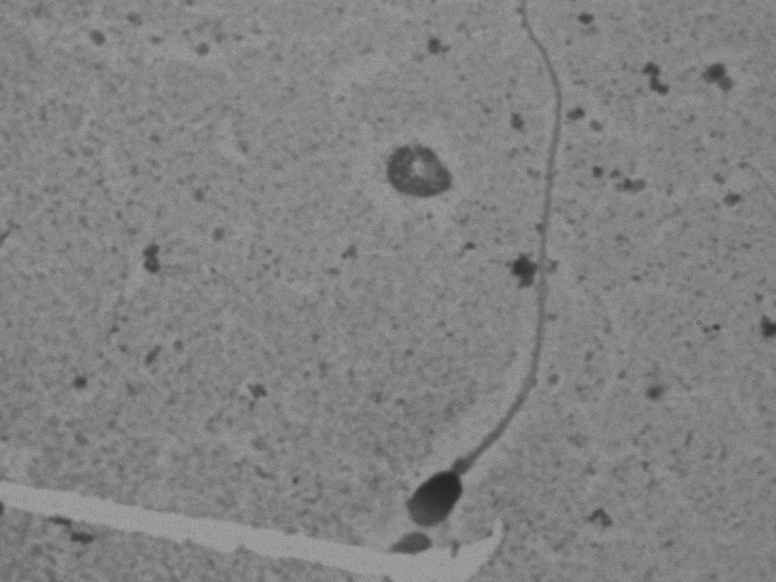Normal: (383, 10, 584, 533)
